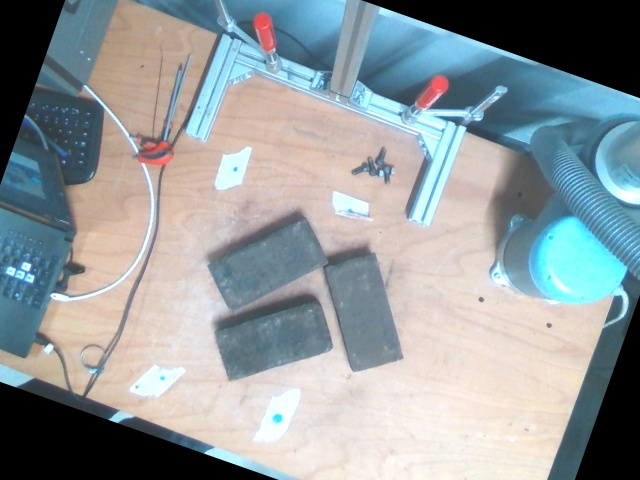brick: (207, 219, 328, 311), (324, 255, 403, 375), (213, 304, 332, 380)
